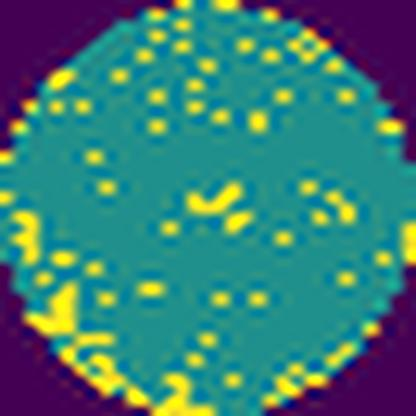Edge-Loc: (61, 328, 146, 408), (19, 278, 78, 338), (153, 372, 220, 415)
